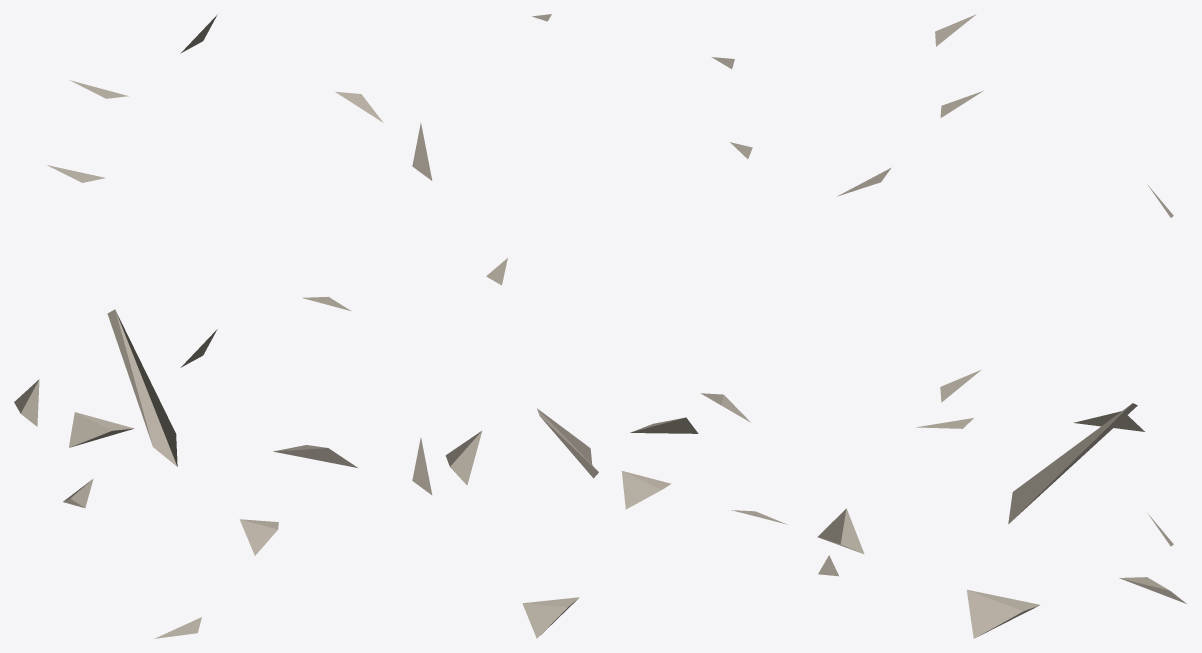
The model's file is corn.lod2.glb.
3 renders of one model, left to right at view 1: azimuth 30°, elevation 25°; view 2: azimuth 150°, elevation 25°; view 3: azimuth 270°, elevation 25°, orthographic. The views are drawn at different scales.
Visible parts, largest first — view 1: Circle_020_corn_plant__corn_texture_png_0; view 2: Circle_020_corn_plant__corn_texture_png_0; view 3: Circle_020_corn_plant__corn_texture_png_0.
Boxes of the visible parts, x1,y1,x2,y2 form: Circle_020_corn_plant__corn_texture_png_0: [14, 14, 383, 638]; Circle_020_corn_plant__corn_texture_png_0: [412, 14, 787, 638]; Circle_020_corn_plant__corn_texture_png_0: [817, 14, 1186, 638].
Bounding box in the file's own units: 0.9584 × 1.54 × 0.9555.
